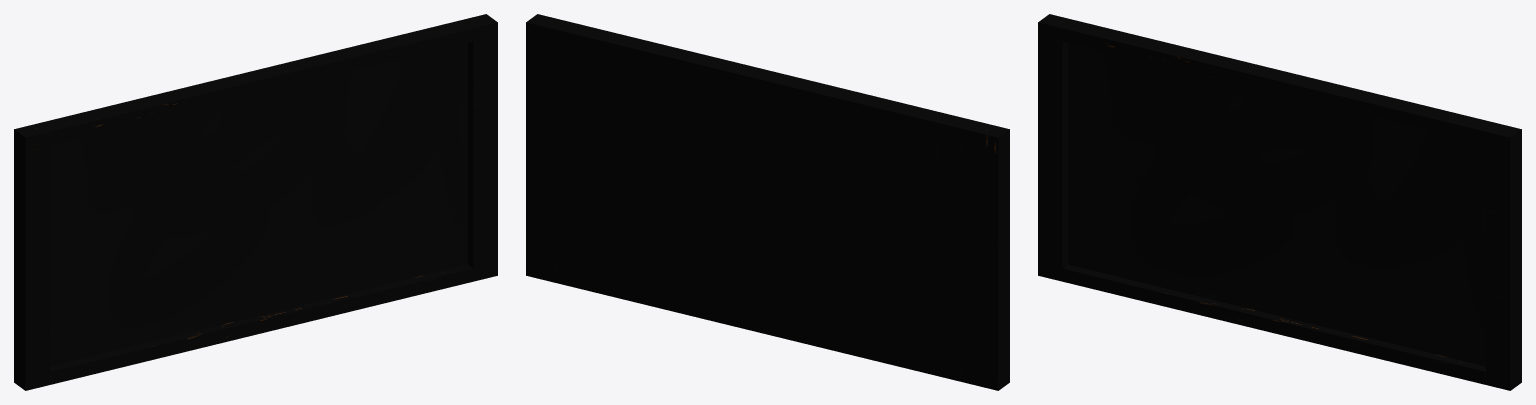
3 views of the same model, side by side, from view 1: azimuth 30°, elevation 25°; view 2: azimuth 150°, elevation 25°; view 3: azimuth 330°, elevation 25° (orthographic).
Parts seen in each view (by area): view 1: TV; view 2: TV; view 3: TV.
Boxes of the visible parts, x1=… form: TV: x1=14, y1=14, x2=497, y2=390; TV: x1=526, y1=14, x2=1009, y2=390; TV: x1=1038, y1=14, x2=1521, y2=390.
Bounding box in the file's own units: 801 × 411 × 33.66.
